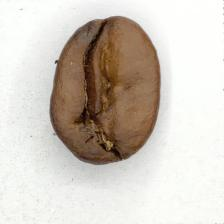NG: (72, 21, 139, 148)
